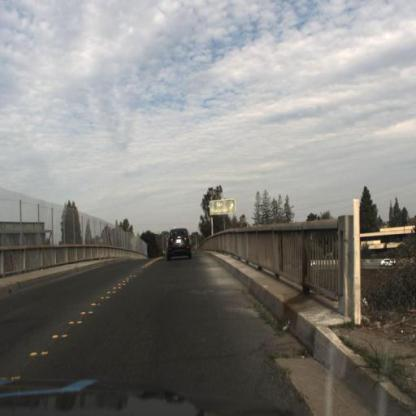car: (163, 221, 194, 267), (380, 253, 400, 274)
